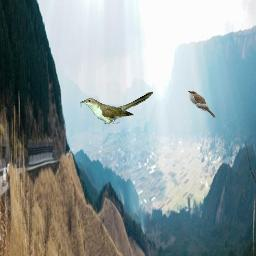Cuckoo: (80, 91, 153, 124), (188, 91, 216, 118)
